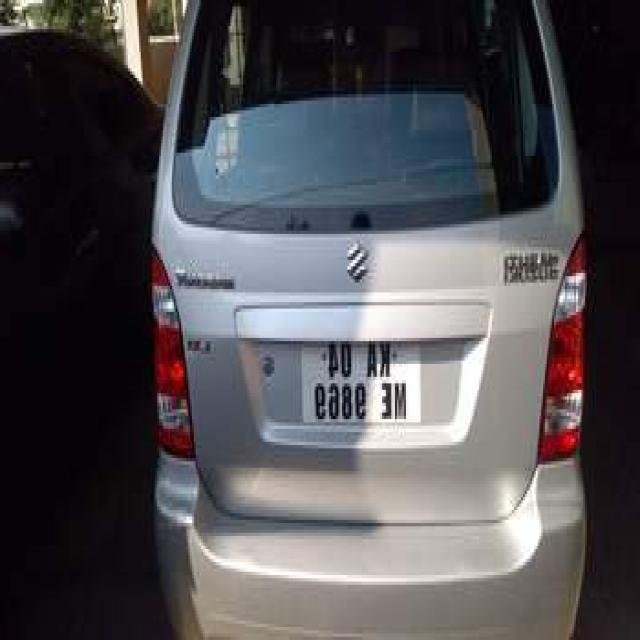number-plate: (284, 325, 433, 447)
